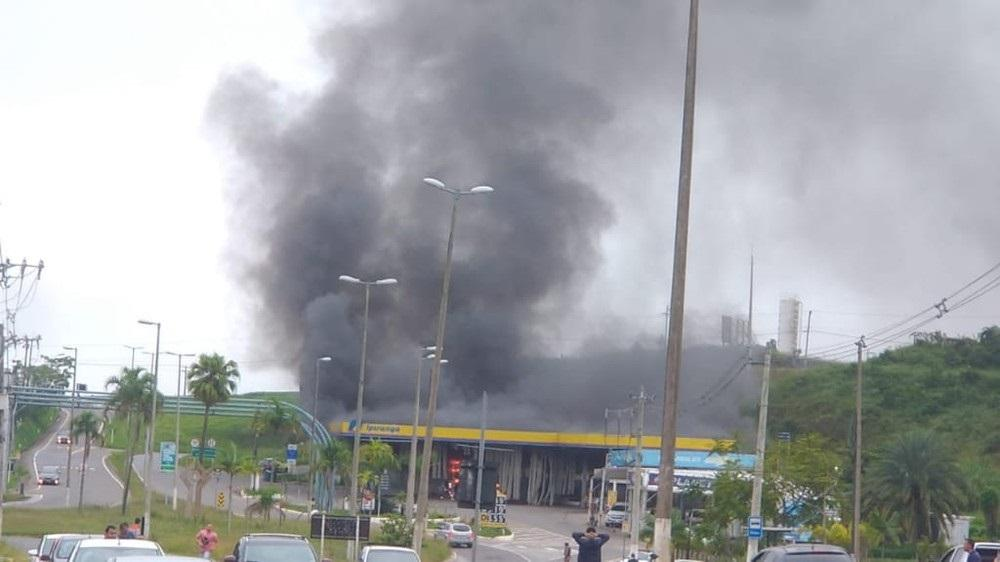smoke: (354, 9, 576, 293)
